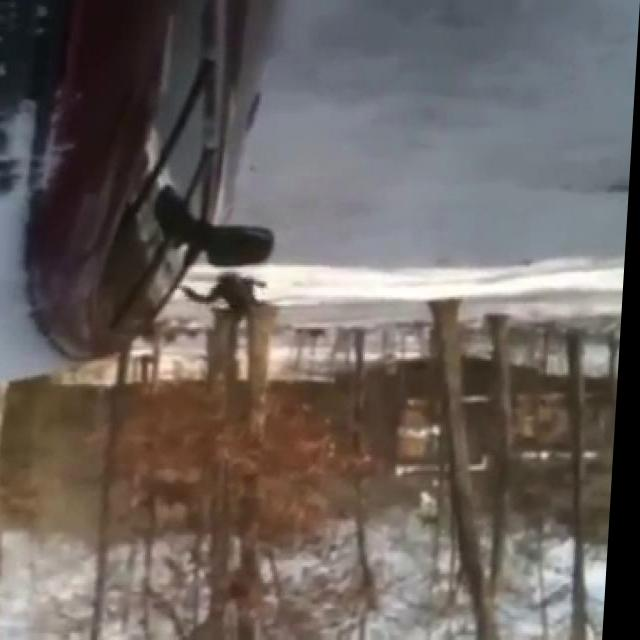fall: (178, 272, 274, 318)
